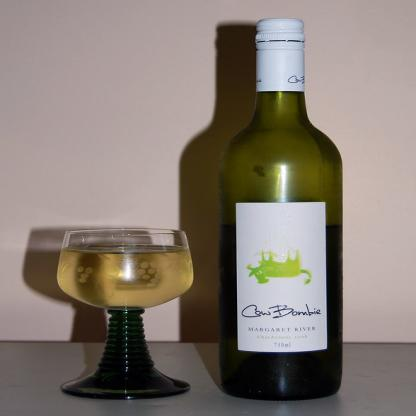drinking: (219, 19, 343, 401), (57, 228, 195, 400)
